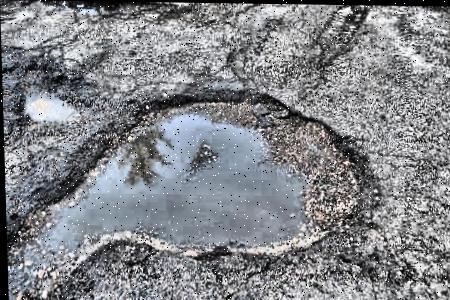pothole: (53, 80, 384, 262), (1, 56, 89, 126), (59, 1, 123, 14)
